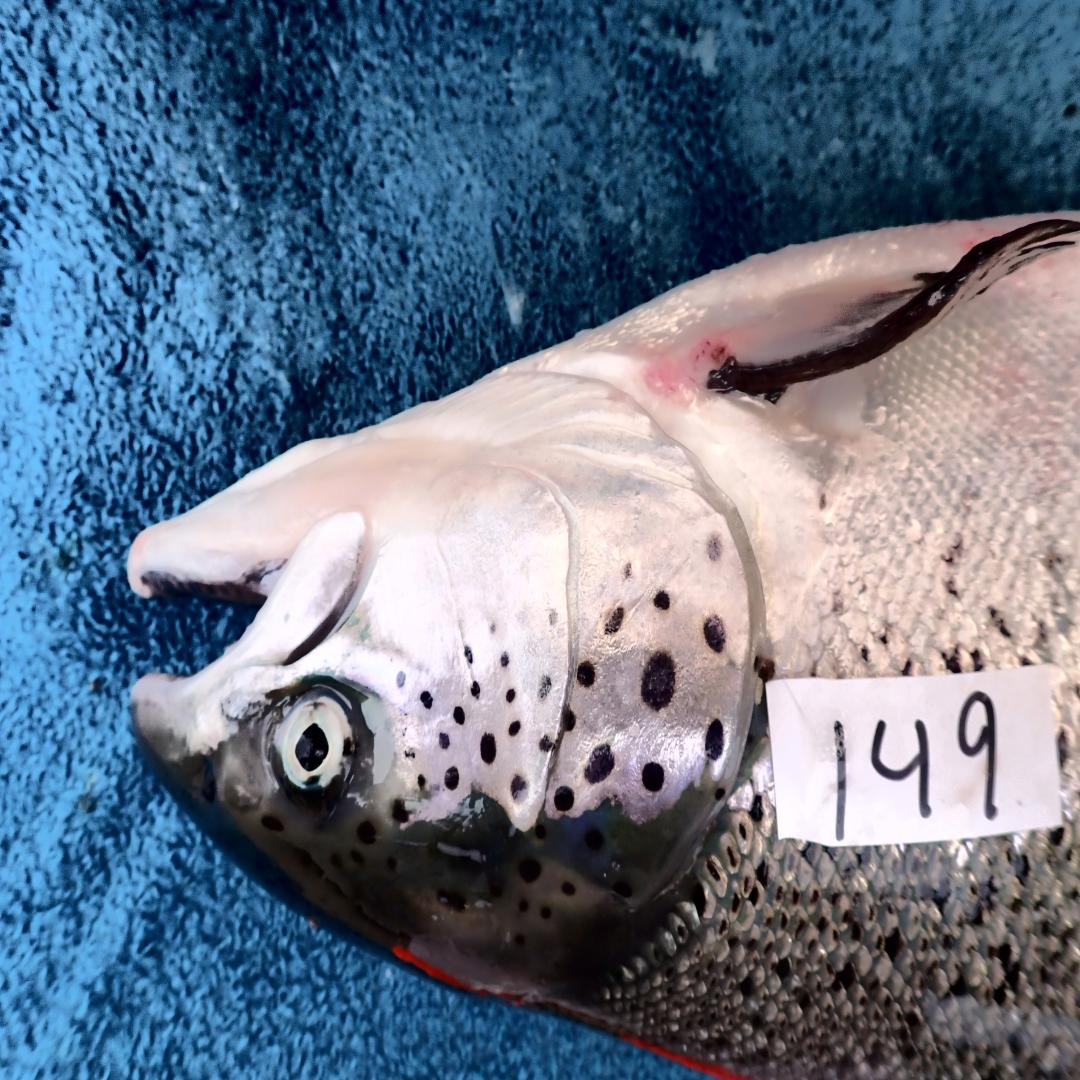spot: (641, 652, 675, 712), (584, 745, 614, 785), (702, 616, 726, 652), (705, 720, 724, 759), (641, 762, 664, 793), (605, 608, 624, 636), (707, 534, 724, 562), (555, 788, 574, 813), (576, 661, 595, 686), (481, 734, 496, 765), (510, 773, 527, 799), (392, 799, 409, 824), (445, 768, 460, 790), (538, 675, 551, 700), (654, 591, 671, 610), (565, 709, 576, 731), (540, 734, 553, 751), (508, 720, 521, 737), (420, 692, 432, 709), (454, 706, 464, 726), (470, 681, 481, 698), (622, 562, 633, 579), (439, 731, 449, 748), (548, 610, 559, 624), (403, 748, 416, 759), (714, 788, 725, 801), (418, 773, 426, 790), (464, 647, 472, 664), (506, 689, 515, 703), (500, 652, 508, 667), (397, 672, 405, 686), (489, 622, 496, 633)
